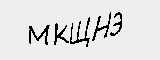К: (51, 22, 69, 46)
М: (26, 22, 49, 46)
Н: (92, 10, 111, 41)
Щ: (67, 15, 90, 46)
Э: (108, 9, 125, 37)
